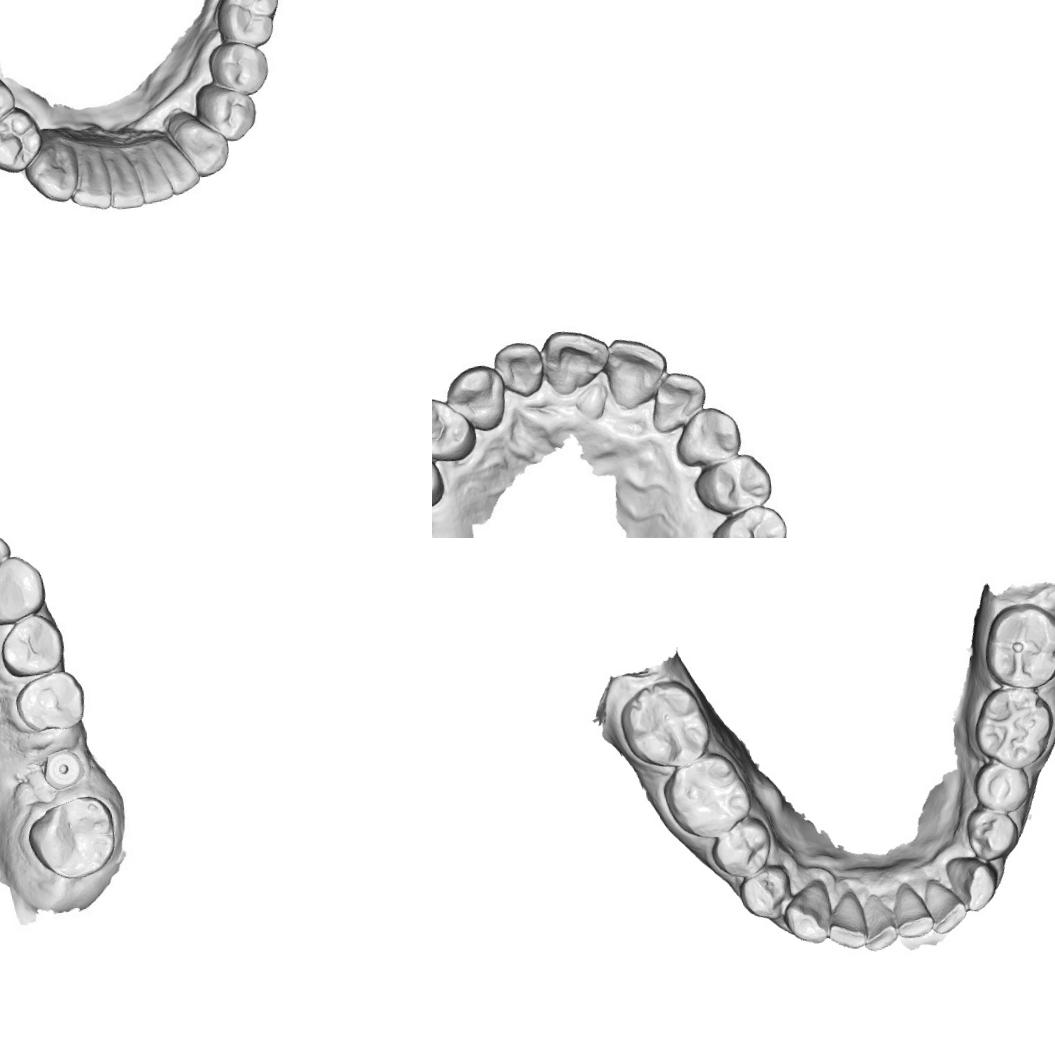canine: (167, 106, 232, 184), (673, 402, 746, 468), (20, 126, 80, 205), (447, 364, 512, 434), (0, 548, 54, 626), (942, 852, 1002, 916), (781, 876, 834, 948)
implant: (36, 744, 87, 793)
incisor: (540, 326, 609, 396), (644, 368, 714, 437), (603, 336, 666, 410), (494, 339, 549, 404), (148, 126, 198, 194), (921, 873, 970, 938), (821, 889, 869, 955), (857, 887, 902, 956), (104, 132, 144, 206), (888, 878, 934, 942), (72, 138, 112, 210), (129, 138, 171, 205)
molar: (616, 676, 716, 774), (659, 748, 758, 844), (967, 682, 1055, 775), (26, 795, 116, 878), (978, 596, 1055, 693), (222, 0, 283, 45)
premolar: (192, 78, 263, 146), (691, 455, 768, 516), (708, 814, 776, 882), (17, 670, 87, 730), (0, 105, 53, 174), (432, 394, 480, 469), (204, 40, 267, 97), (970, 759, 1032, 816), (738, 864, 795, 926), (961, 806, 1020, 865), (0, 616, 58, 673), (707, 505, 786, 538), (0, 63, 18, 136)
